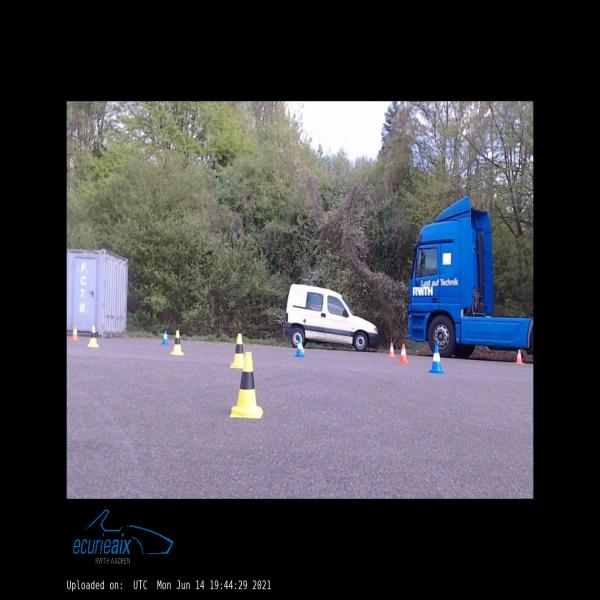blue_cone: (429, 345, 444, 373), (295, 337, 305, 357), (162, 330, 168, 344)
orange_cone: (398, 344, 408, 363), (71, 325, 79, 340), (515, 349, 523, 364), (388, 343, 395, 356)
yellow_cone: (229, 352, 263, 418), (230, 333, 244, 368), (171, 330, 184, 355), (88, 326, 98, 347)
